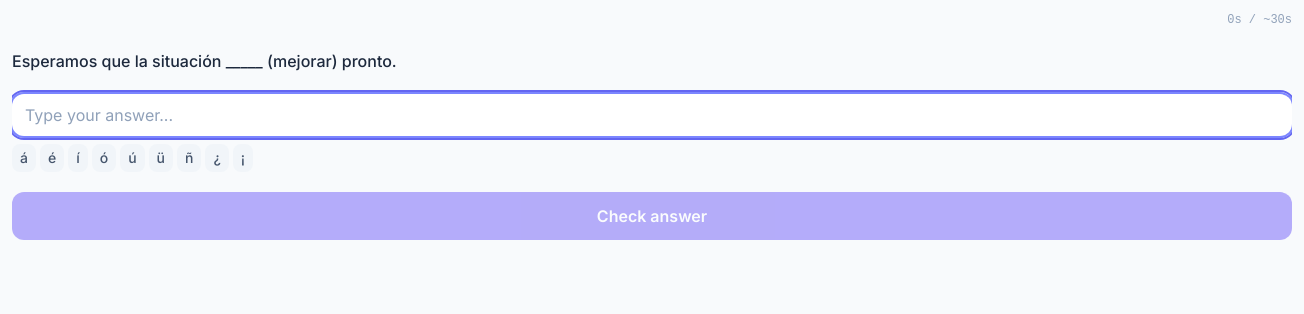
ExerciseRenderer — text input (cloze) › flags wrong answers and shows correct one
The width and height of the screenshot is (1304, 314).
In the field with placeholder "Type your answer...": [652, 115] box [12, 94, 1292, 136], type "mejora"
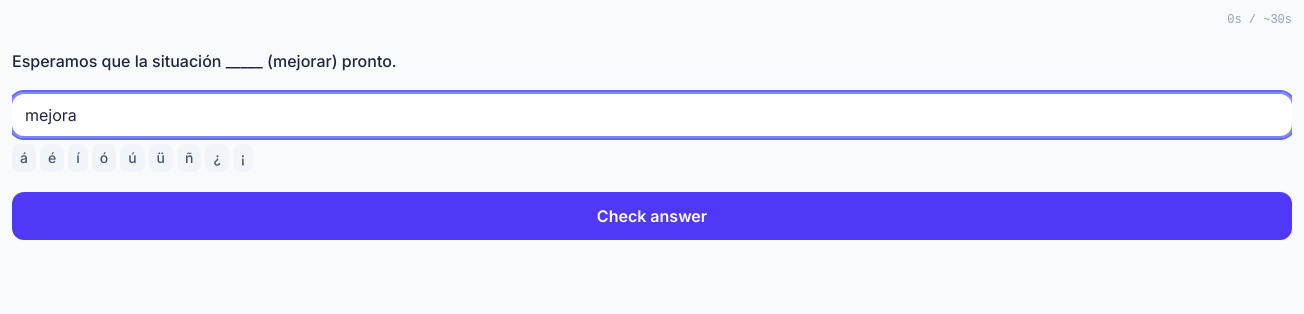
Click the button "Check answer": [652, 216] box [12, 192, 1292, 240]
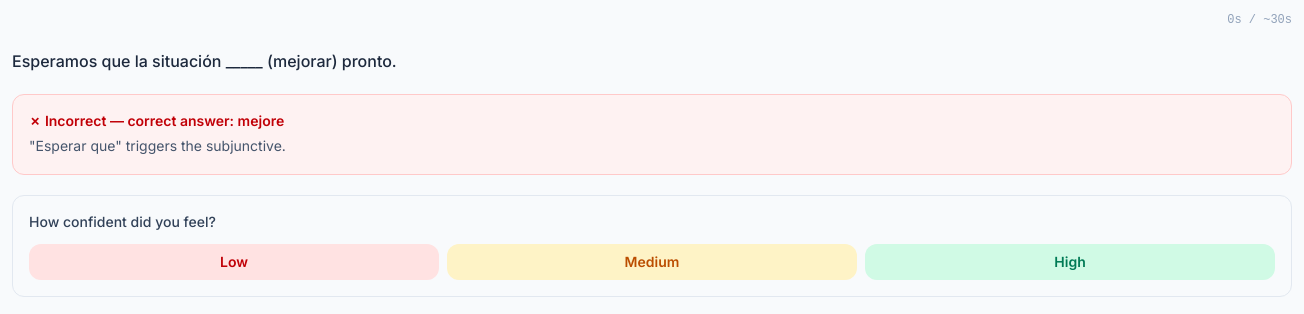
Check: the text "✗ Incorrect — correct answer: mejore" is shown, box [29, 112, 284, 129]
